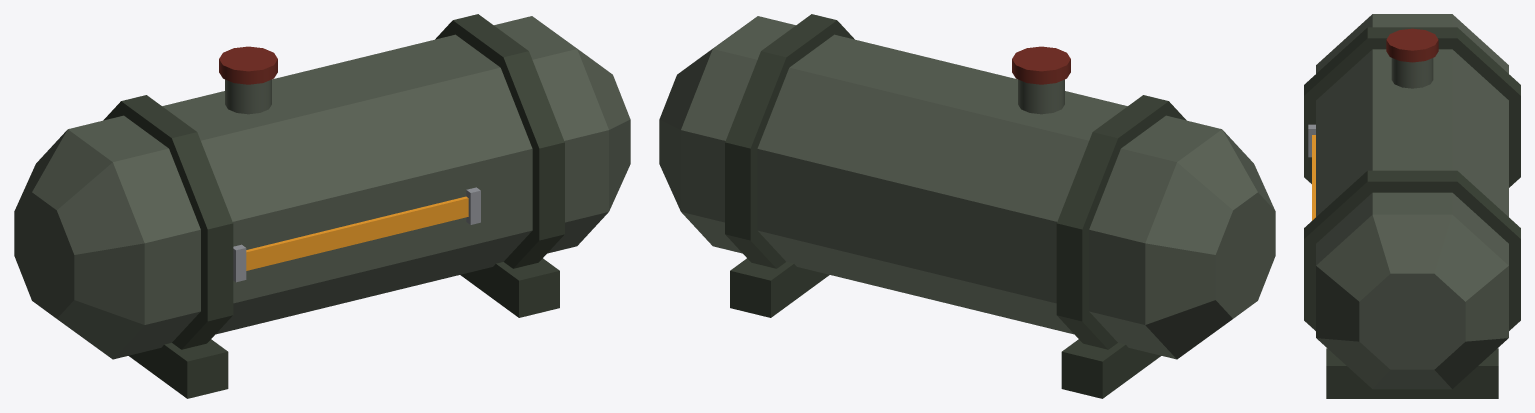
File: ko600_fluid.obj
The picture shows the model from 3 angles, left to right: view 1: azimuth 30°, elevation 25°; view 2: azimuth 150°, elevation 25°; view 3: azimuth 270°, elevation 25°; orthographic projection. The views are drawn at different scales.
Parts seen in each view (by area): view 1: ko600_fluid; view 2: ko600_fluid; view 3: ko600_fluid.
Part boxes in pixels (bbox=[...]): ko600_fluid: bbox=[14, 14, 630, 398]; ko600_fluid: bbox=[659, 14, 1275, 398]; ko600_fluid: bbox=[1304, 14, 1520, 398].
Size of the model in its own units: 2.18 by 1.04 by 0.8315.
